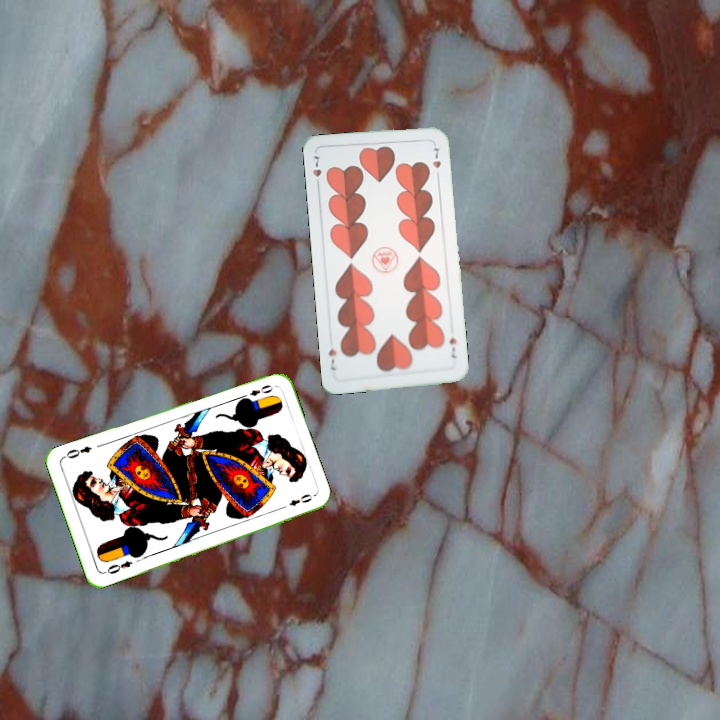EO: (100, 557, 135, 577), (245, 381, 275, 399)
H7: (309, 151, 324, 190), (445, 334, 459, 361)
